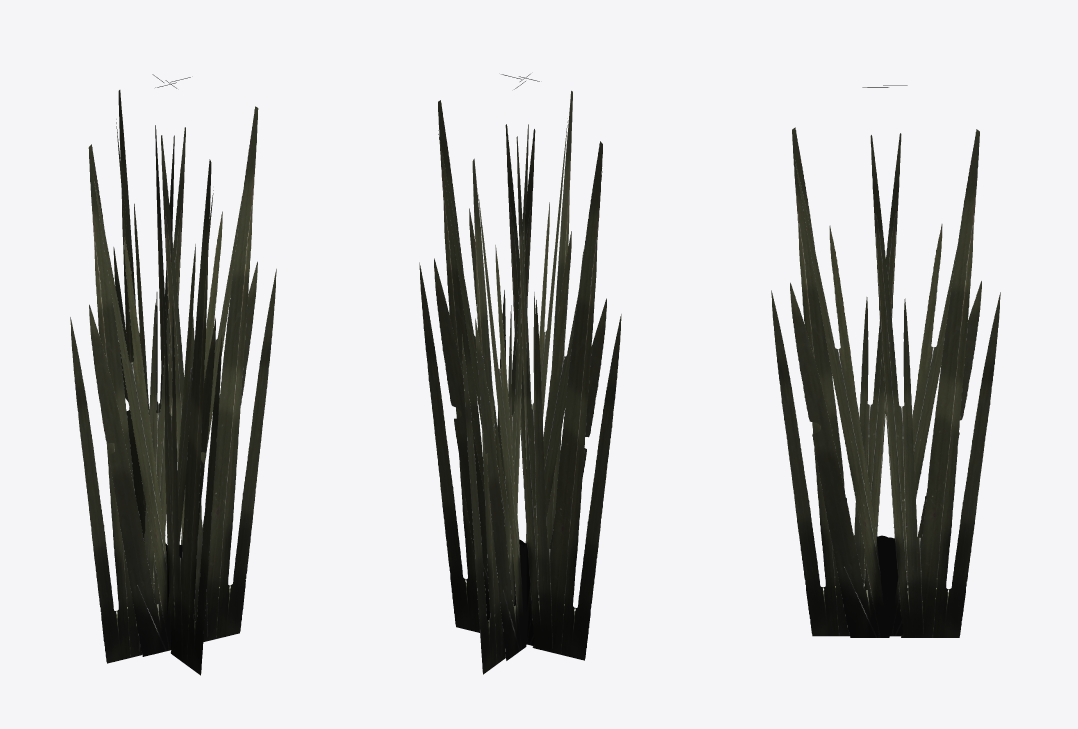
3 views of the same model, side by side, from view 1: azimuth 30°, elevation 25°; view 2: azimuth 150°, elevation 25°; view 3: azimuth 270°, elevation 25° (orthographic). The views are drawn at different scales.
Parts seen in each view (by area): view 1: Cube.001, Cube; view 2: Cube.001, Cube; view 3: Cube.
Boxes of the visible parts, x1,y1,x2,y2 form: Cube.001: (70,77,276,663); Cube: (113,74,221,675); Cube.001: (419,74,621,660); Cube: (462,74,583,674); Cube: (771,85,1000,637).
Size of the model in its own units: 117 by 200 by 117.
Materials: 1 (1 with a texture image).
